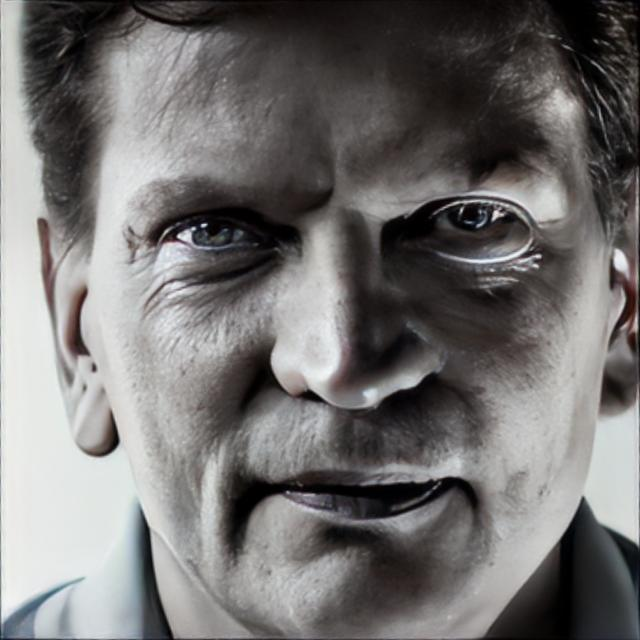content: (91, 0, 610, 640)
